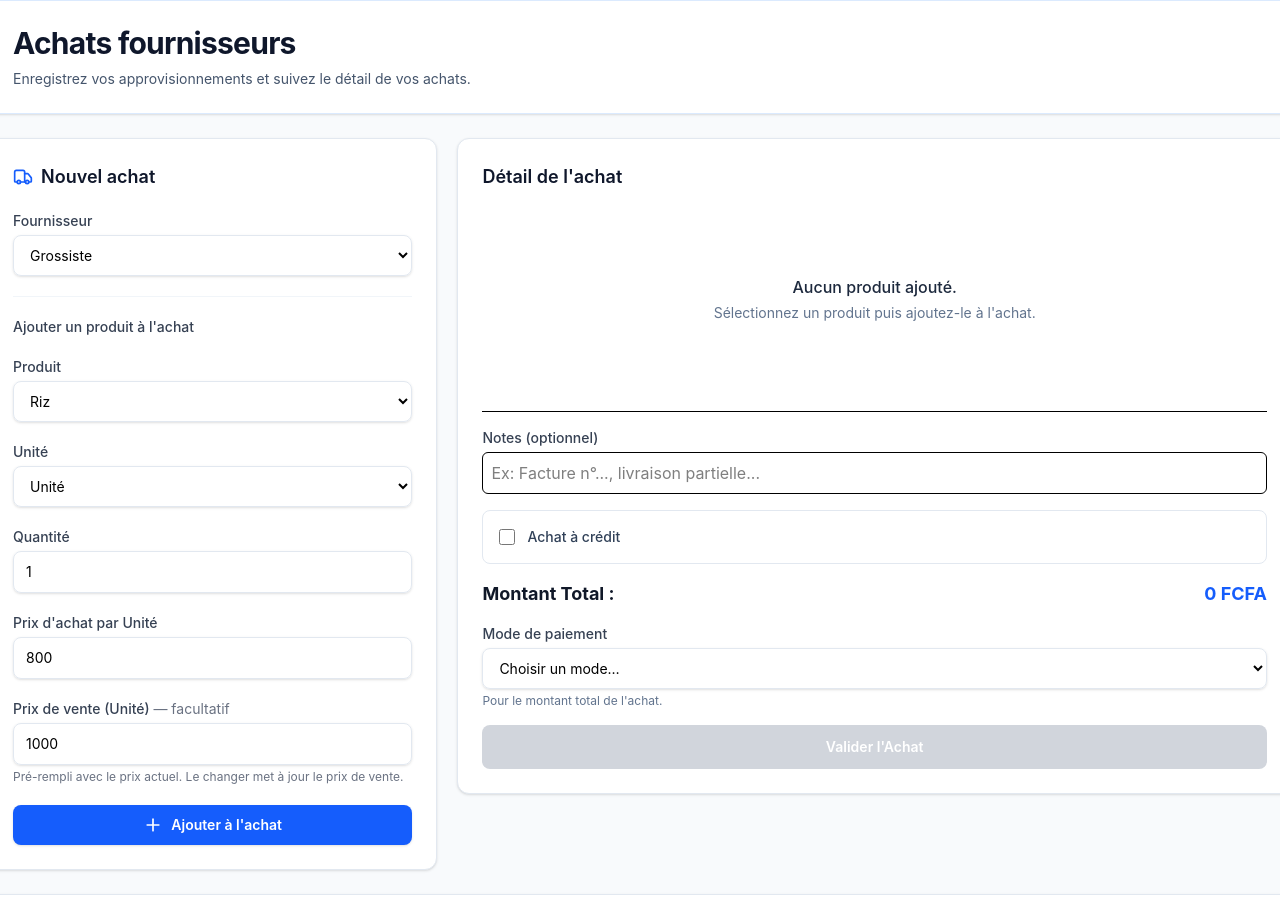
Nouvel achat : prix pré-remplis › prix d’achat converti selon l’unité, prix de vente inchangé
Expected: the button "Ajouter à l'achat" is shown, x1=13 y1=805 x2=412 y2=845
Select "Sac 25kg" in the 3rd dropdown named "Sac 25kg": (213, 486) x1=13 y1=466 x2=412 y2=507
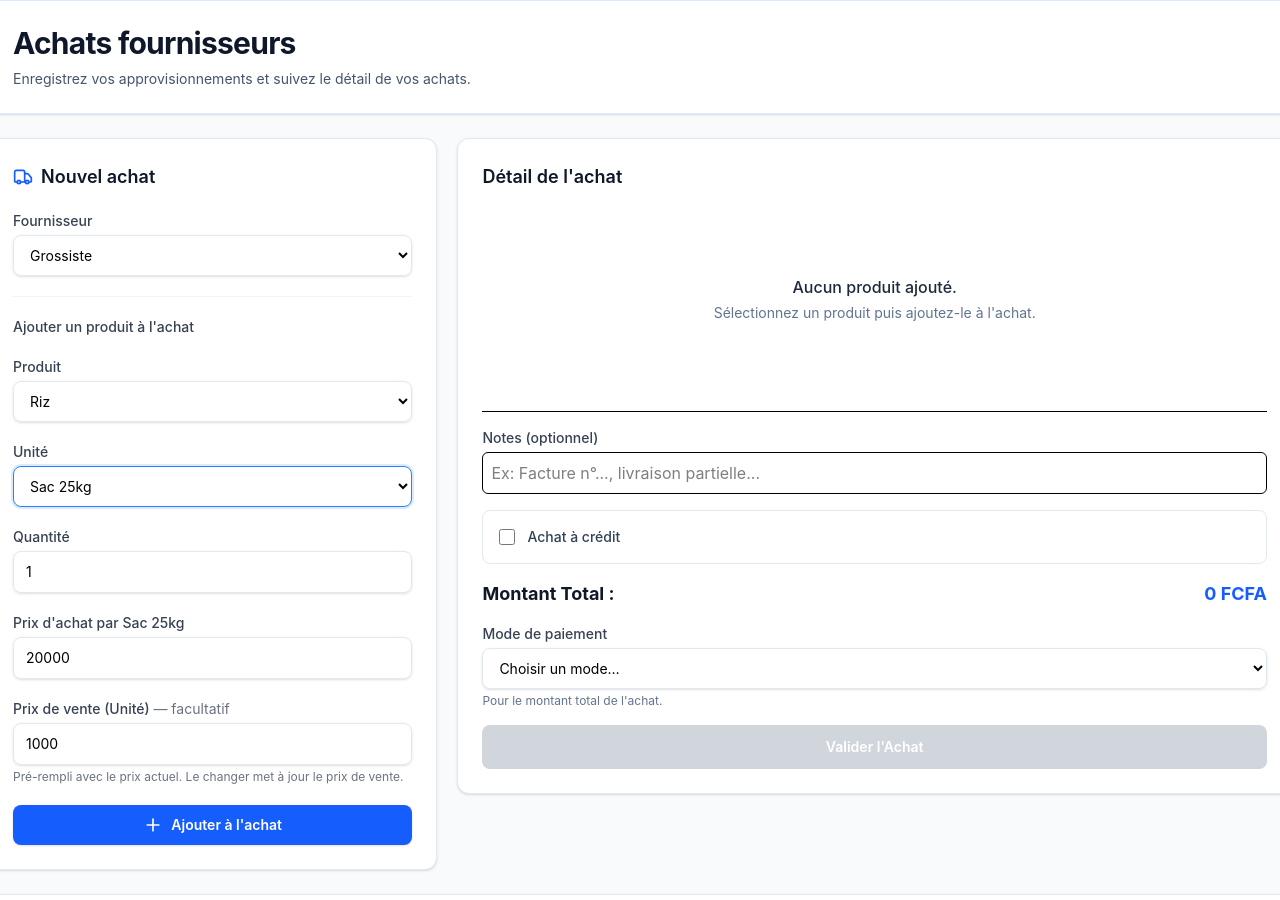
Expected: the number field labelled "Prix de vente (Unité) — facultatif" holds "1000", x1=13 y1=723 x2=412 y2=765
Expected: the number field with placeholder "0.00" below "Prix d'achat par" holds "20000", x1=13 y1=637 x2=412 y2=679
Select "Douzaine" in the 3rd dropdown named "Sac 25kg": (213, 486) x1=13 y1=466 x2=412 y2=507
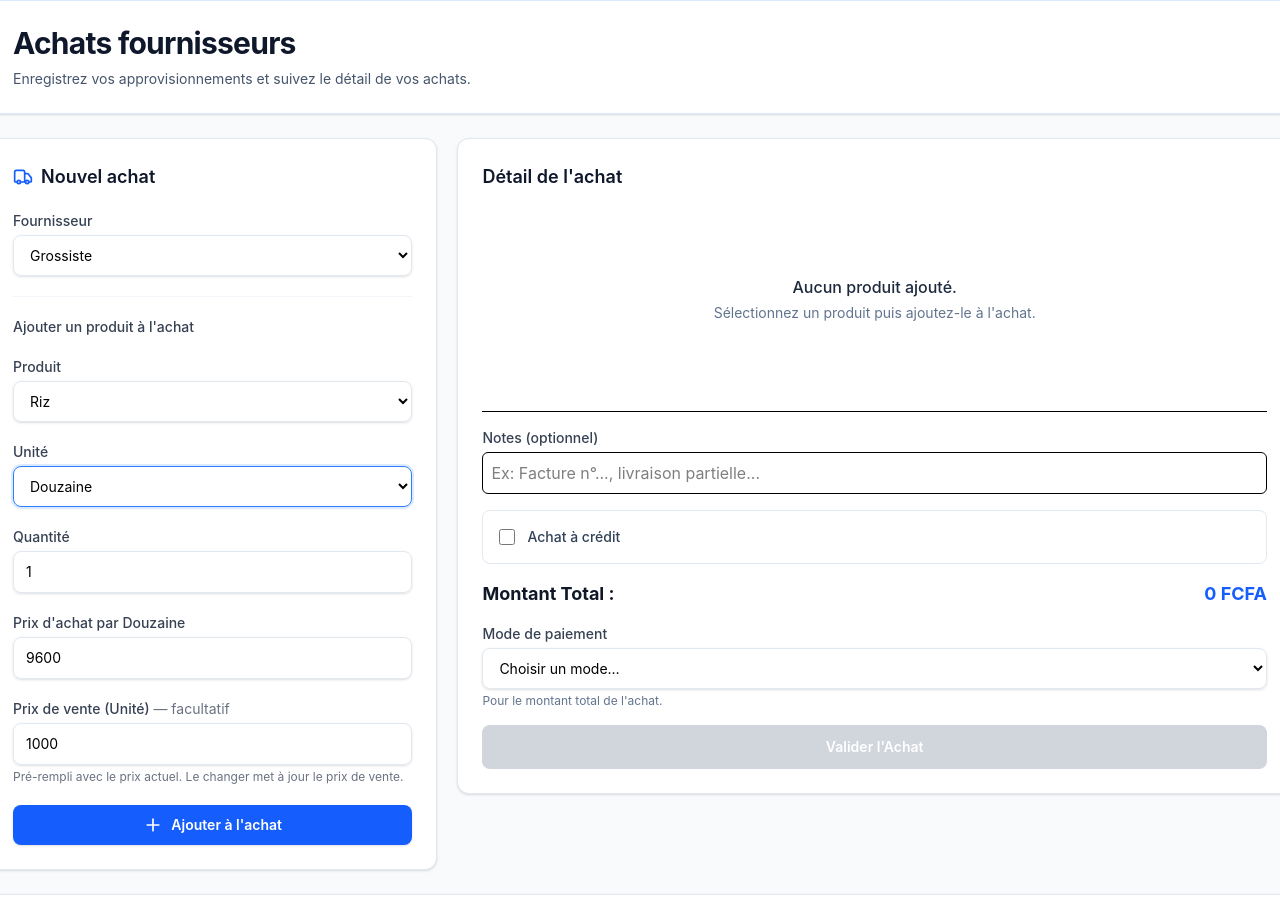
Expected: the number field with placeholder "0.00" below "Prix d'achat par" holds "9600", x1=13 y1=637 x2=412 y2=679
Select "Unité" in the 3rd dropdown named "Sac 25kg": (213, 486) x1=13 y1=466 x2=412 y2=507
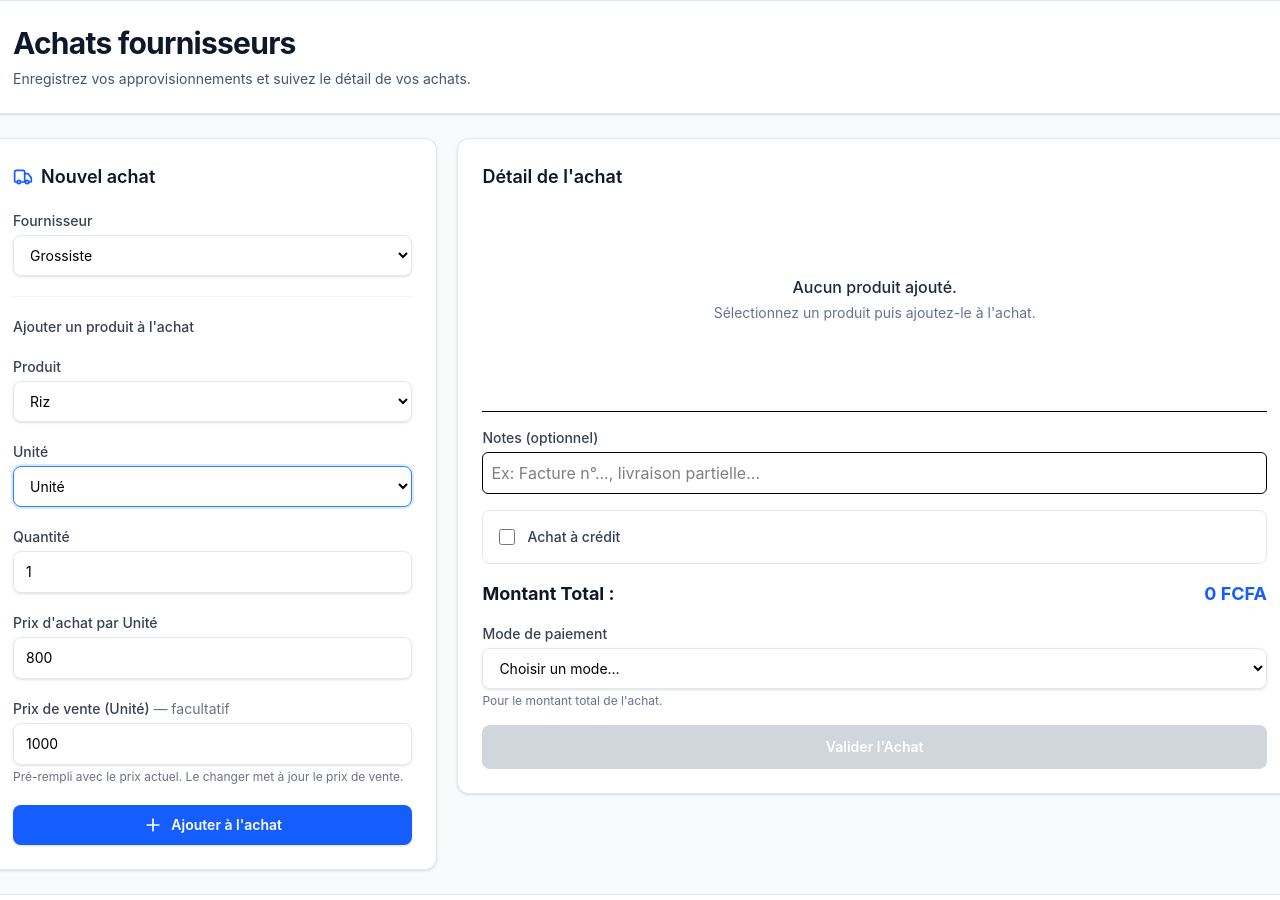
Expected: the number field with placeholder "0.00" below "Prix d'achat par" holds "800", x1=13 y1=637 x2=412 y2=679
